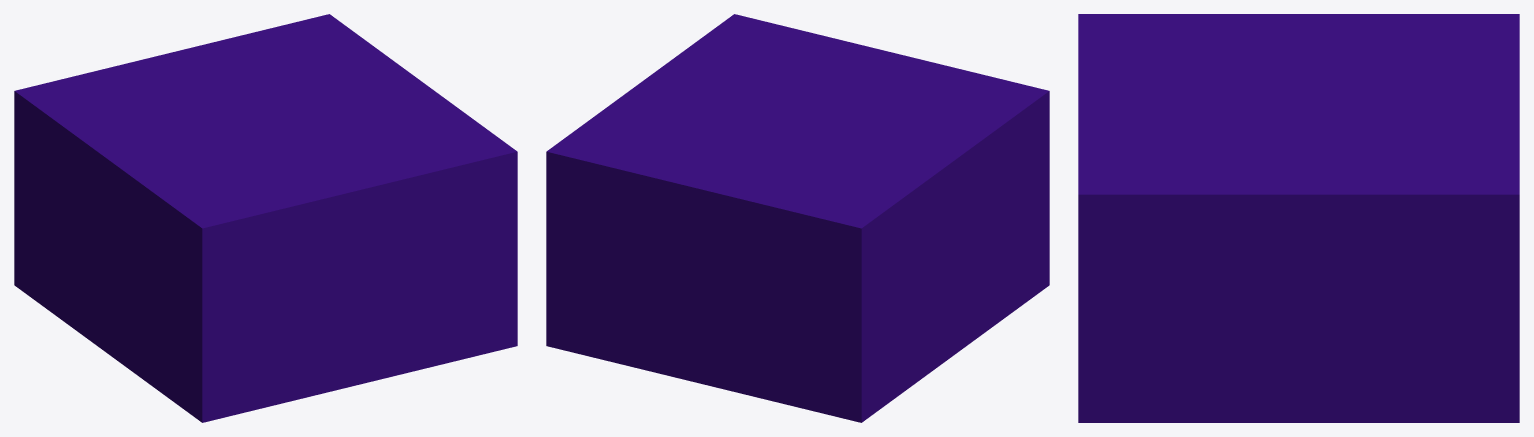
File: canopytree_two.DAE
3 renders of one model, left to right at view 1: azimuth 30°, elevation 25°; view 2: azimuth 150°, elevation 25°; view 3: azimuth 270°, elevation 25°, orthographic. The views are drawn at different scales.
Visible parts, largest first — view 1: bounds; view 2: bounds; view 3: bounds.
Boxes of the visible parts, left/top/right/bottom form: bounds: left=14, top=14, right=517, bottom=422; bounds: left=546, top=14, right=1049, bottom=422; bounds: left=1078, top=14, right=1519, bottom=422.
Size of the model in its own units: 30.16 by 31.16 by 18.73.
